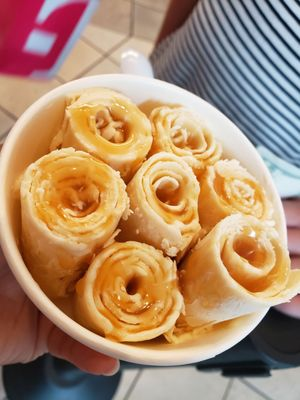pizza: (0, 0, 99, 80)
